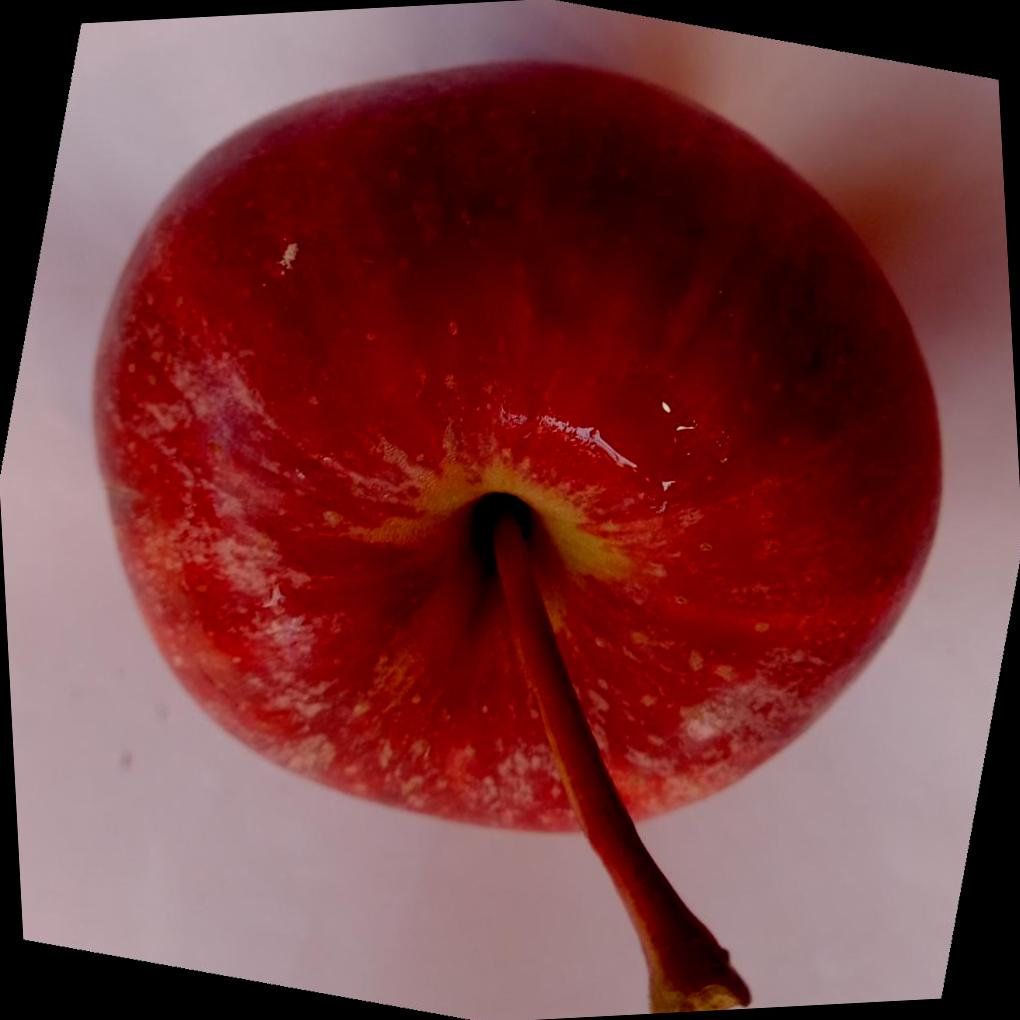FreshGuava: (88, 54, 945, 1012)
